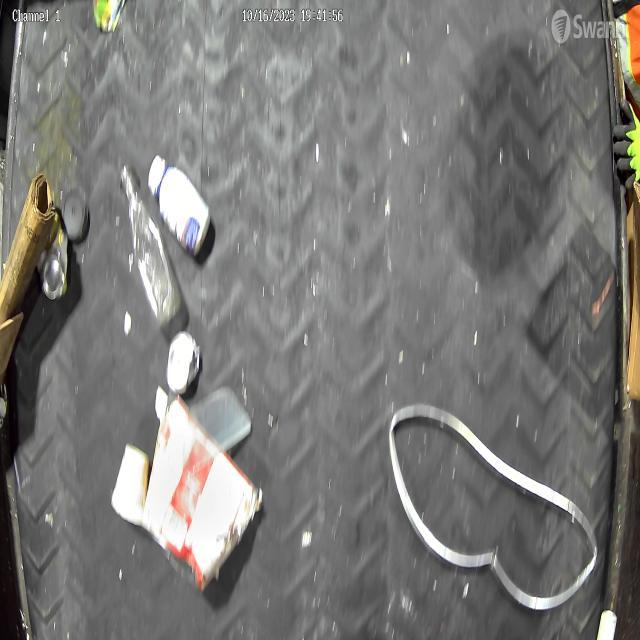can: (40, 226, 70, 301)
plastic_bottle: (119, 164, 182, 325)
